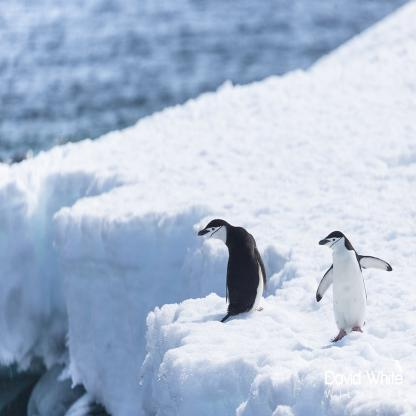Penguin: (308, 222, 401, 352), (192, 200, 278, 335)
